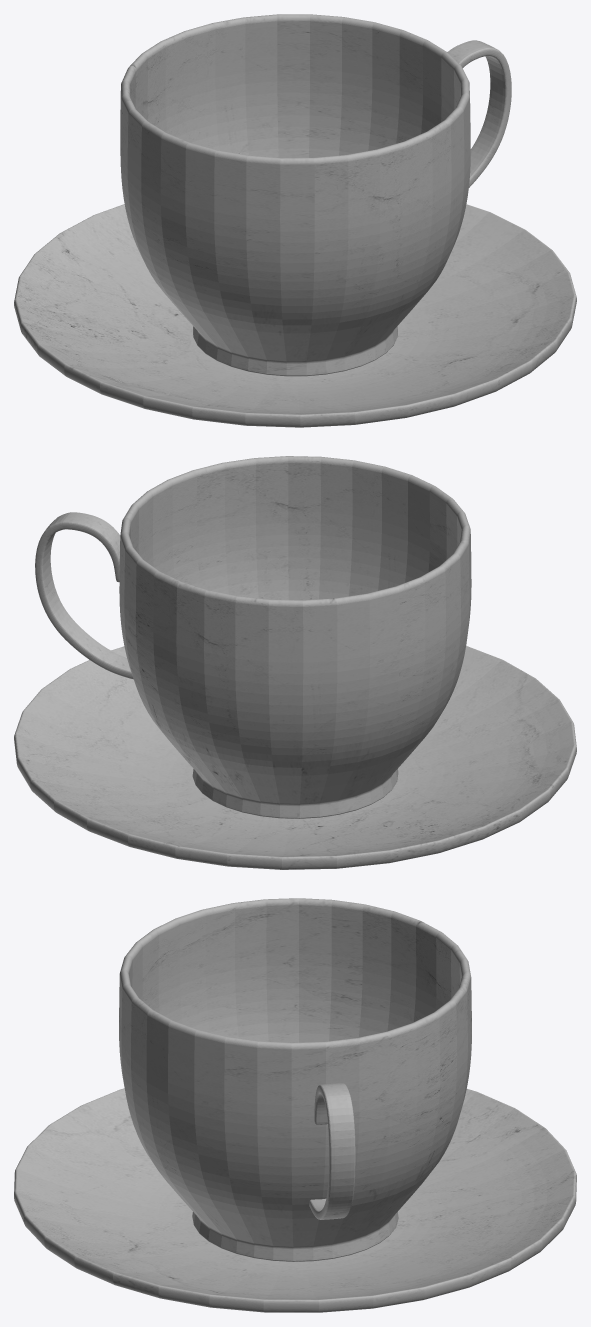
Rendered from mug-with-plate.obj.
The picture shows the model from 3 angles, top to bottom: view 1: azimuth 30°, elevation 25°; view 2: azimuth 150°, elevation 25°; view 3: azimuth 270°, elevation 25°; orthographic projection.
Parts seen in each view (by area): view 1: Kitchenware_175; view 2: Kitchenware_175; view 3: Kitchenware_175.
Boxes of the visible parts, x1,y1,x2,y2 form: Kitchenware_175: (14, 14, 576, 427); Kitchenware_175: (14, 456, 576, 869); Kitchenware_175: (14, 898, 576, 1312).
Bounding box in the file's own units: 16.4 × 8.63 × 16.4.
Materials: 1 (1 with a texture image).
